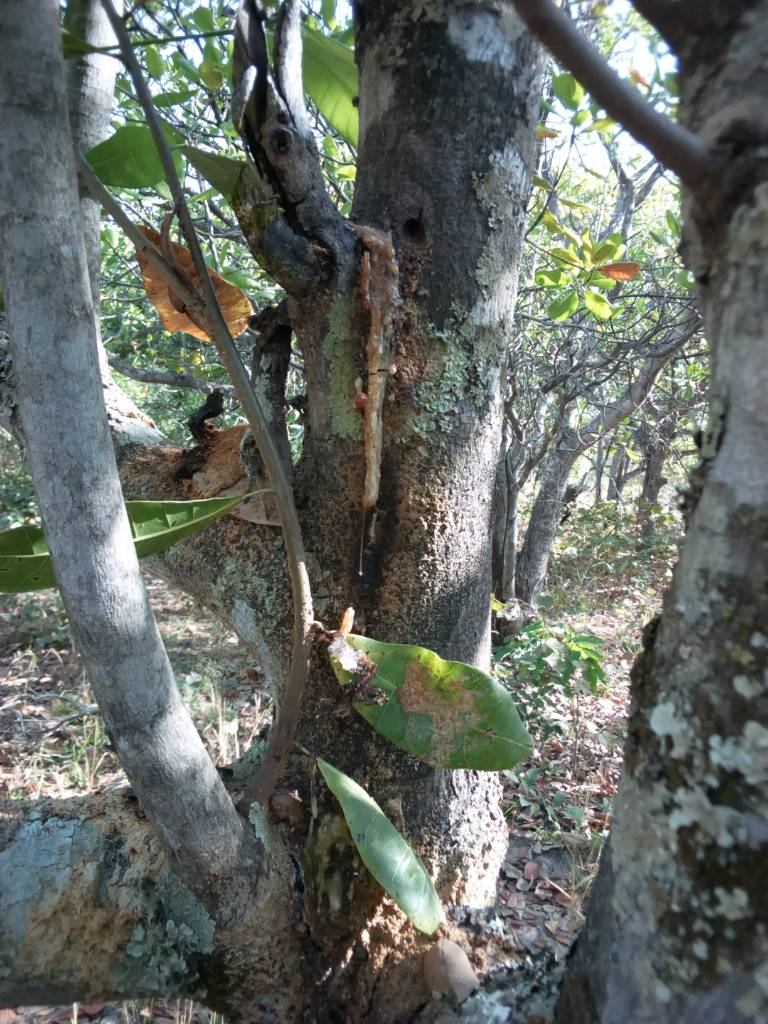Apate terebrans: (279, 174, 515, 669)
